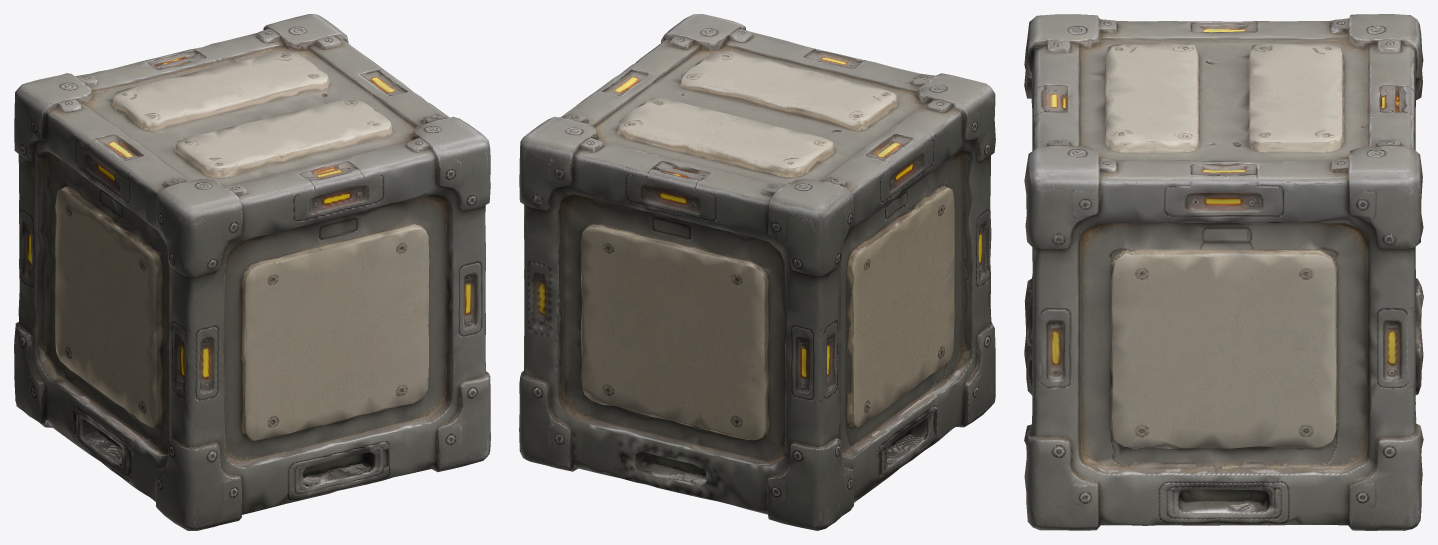
The model's file is AS01_Crate.fbx.
The picture shows the model from 3 angles, left to right: view 1: azimuth 30°, elevation 25°; view 2: azimuth 150°, elevation 25°; view 3: azimuth 270°, elevation 25°; orthographic projection. The views are drawn at different scales.
Parts seen in each view (by area): view 1: texture_mapping; view 2: texture_mapping; view 3: texture_mapping.
Boxes of the visible parts, box(x1,y1,x2,y2) form: texture_mapping: box(14, 14, 490, 530); texture_mapping: box(519, 14, 995, 530); texture_mapping: box(1024, 14, 1423, 530).
Size of the model in its own units: 0.9969 by 0.9981 by 0.9989.
1 material, 1 textured.
